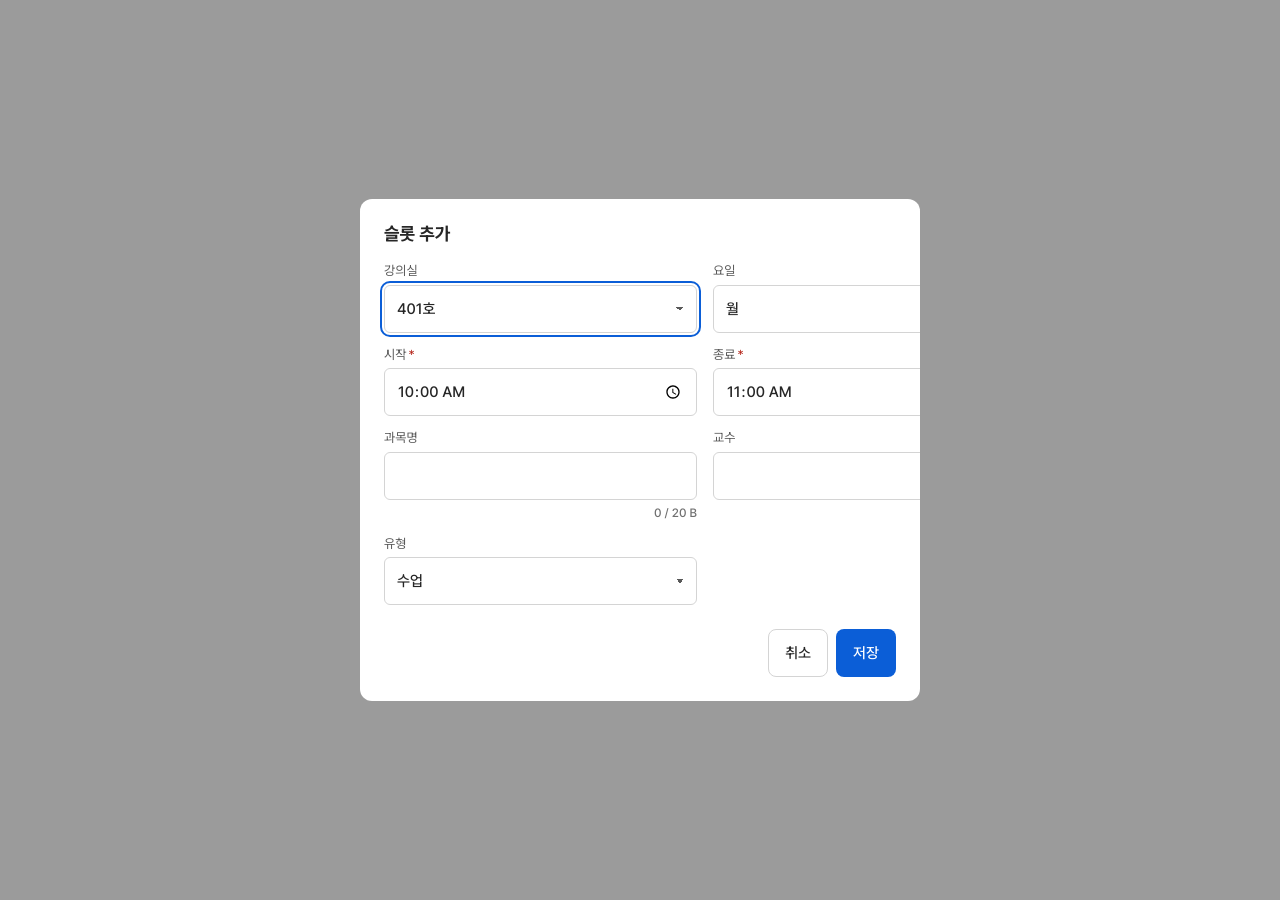
Test: SlotForm › 겹치면 저장 전에 막는다 — 서버를 부르지 않는다
This screenshot has width=1280, height=900.
Click the button "저장".
click(866, 653)  # box [836,629,896,677]
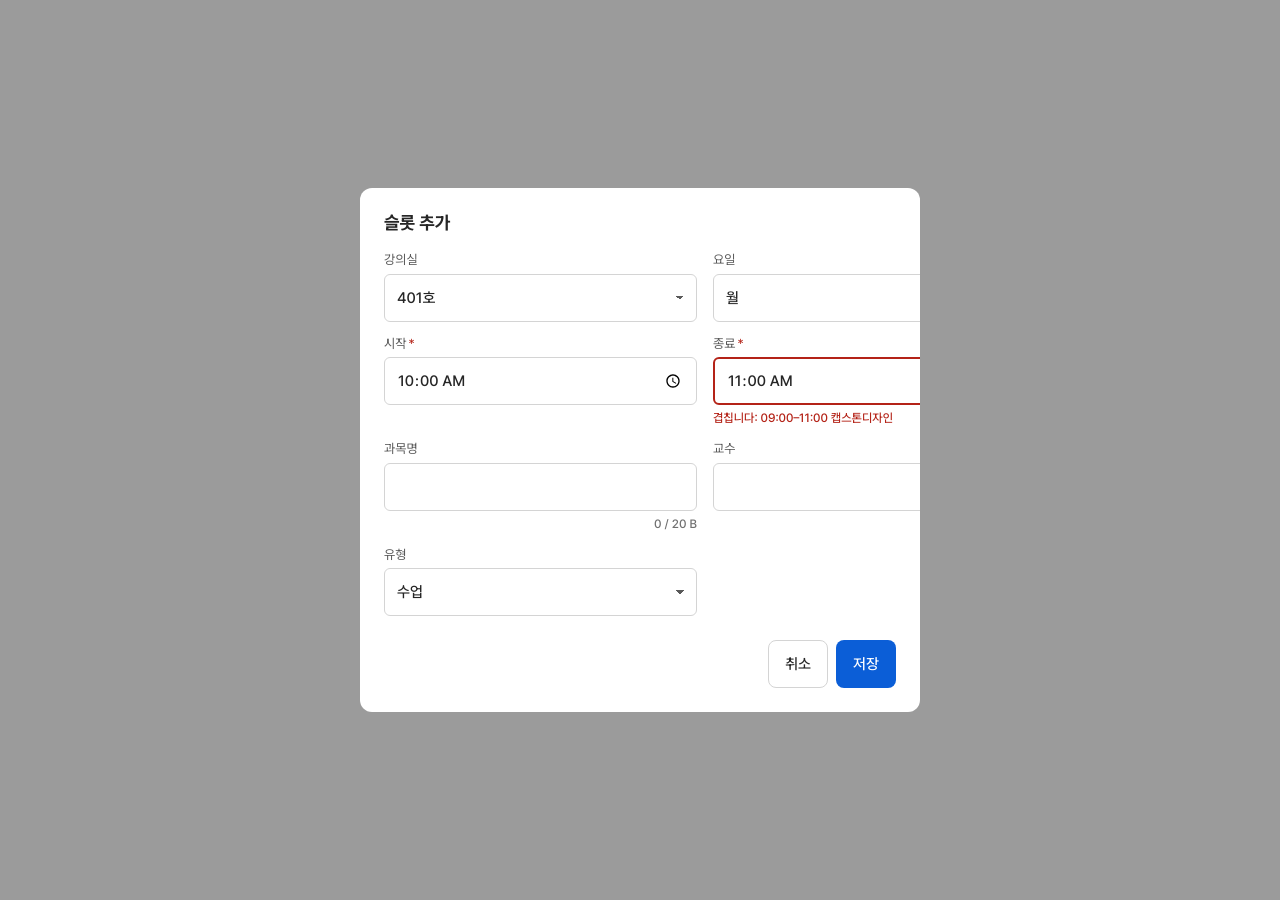
Check: the text "겹칩니다: 09:00–11:00 캡스톤디자인" is shown, box [713,411,893,425]
